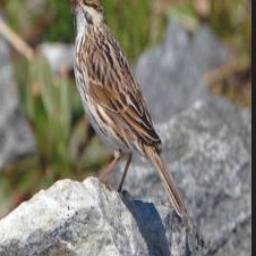Sparrow: (66, 0, 188, 224)
